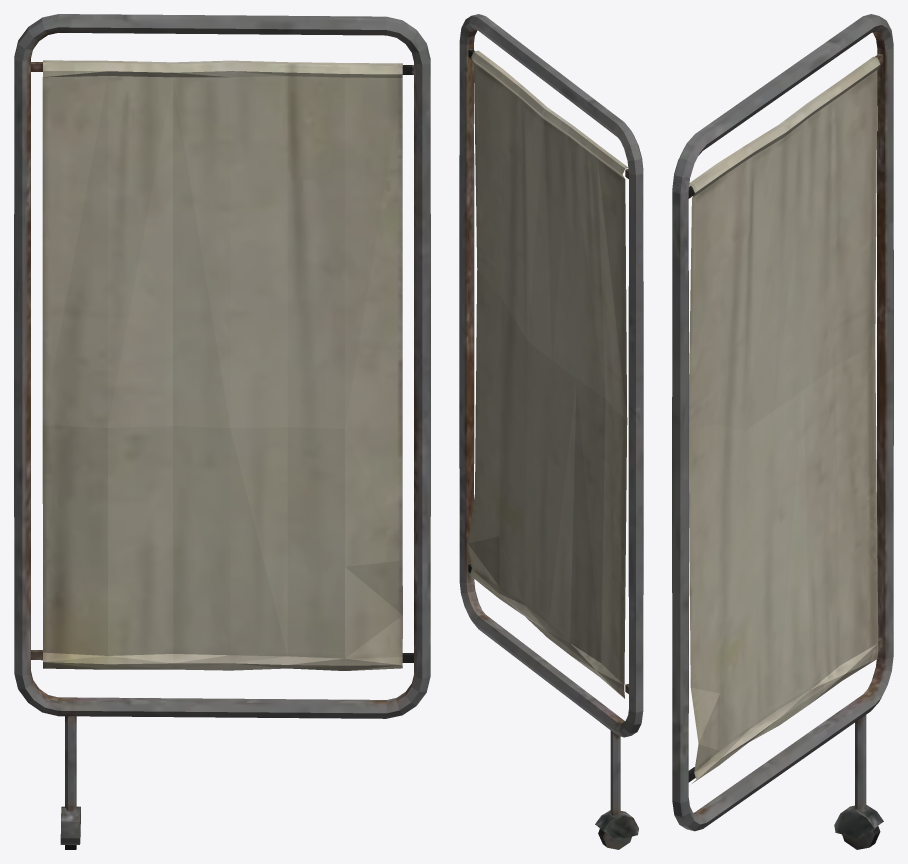
File: screen.glb
3 renders of one model, left to right at view 1: azimuth 30°, elevation 25°; view 2: azimuth 150°, elevation 25°; view 3: azimuth 270°, elevation 25°, orthographic. The views are drawn at different scales.
Parts seen in each view (by area): view 1: zp_screen2; view 2: zp_screen2; view 3: zp_screen2.
Boxes of the visible parts, <box> form: zp_screen2: <box>14,14,430,849</box>; zp_screen2: <box>459,14,643,849</box>; zp_screen2: <box>672,14,893,849</box>.
Size of the model in its own units: 0.7643 by 1.94 by 0.4719.
1 material, 1 textured.
